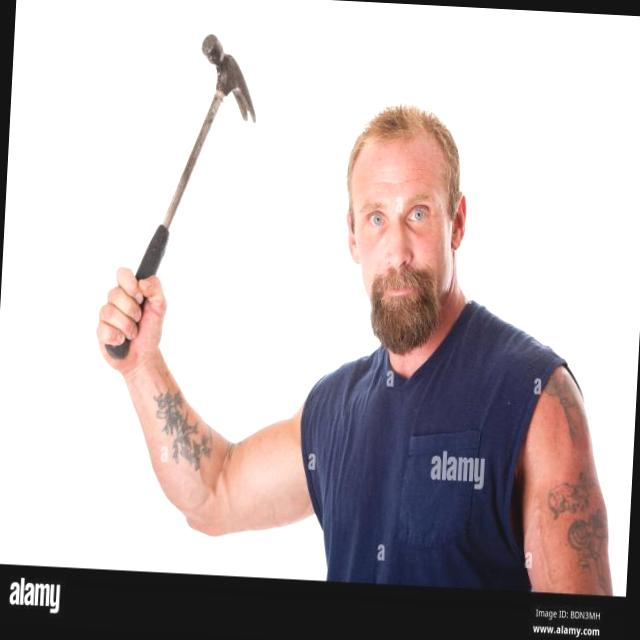hammer: (136, 34, 255, 279), (107, 340, 128, 358)
